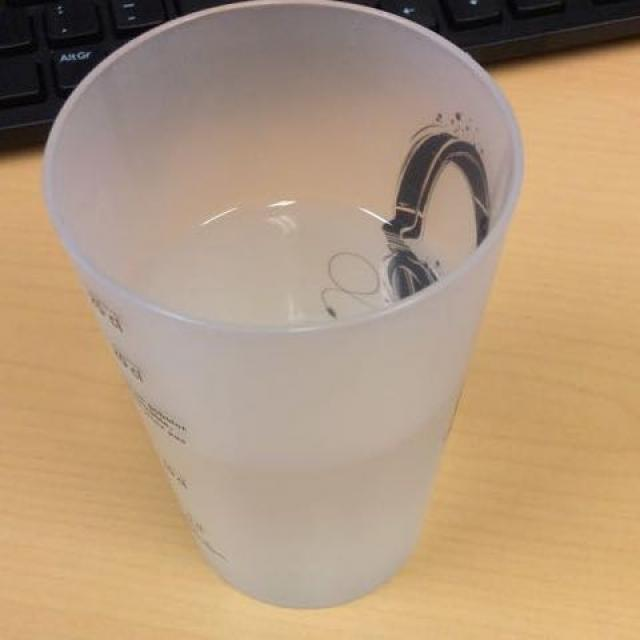water: (87, 189, 465, 602), (102, 189, 466, 594), (123, 198, 461, 608), (134, 181, 447, 610)
